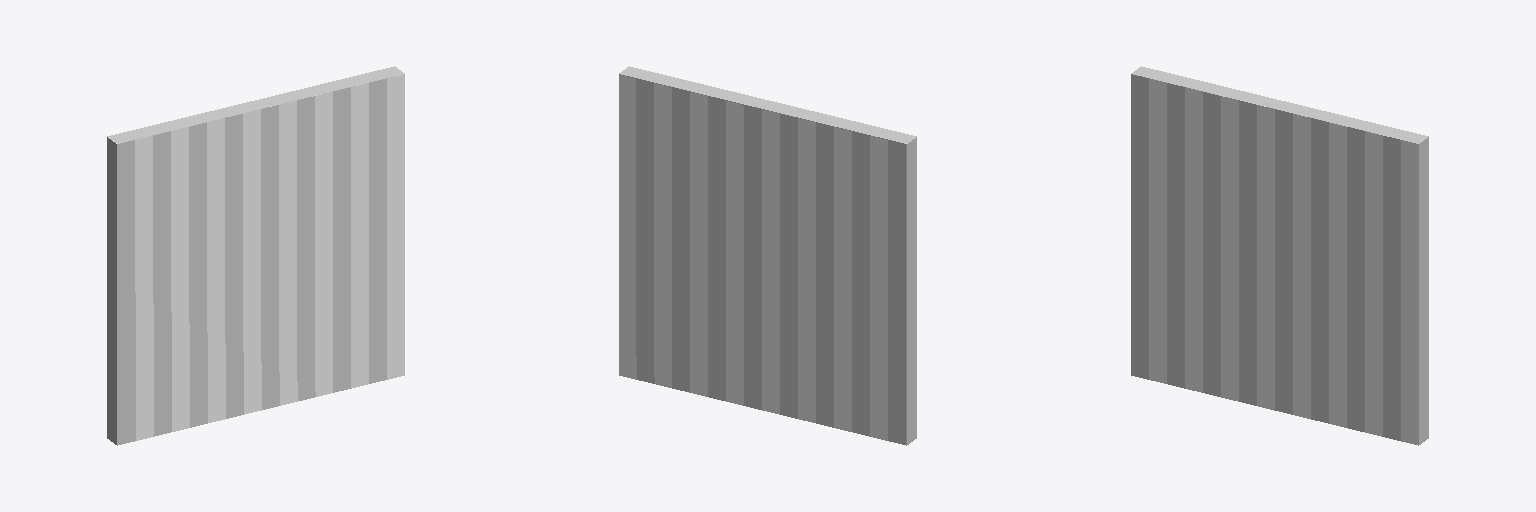
3 views of the same model, side by side, from view 1: azimuth 30°, elevation 25°; view 2: azimuth 150°, elevation 25°; view 3: azimuth 330°, elevation 25° (orthographic).
Visible parts, largest first — view 1: Cube; view 2: Cube; view 3: Cube.
Part boxes in pixels (left/top/right/bottom): Cube: left=107, top=66, right=404, bottom=445; Cube: left=619, top=66, right=916, bottom=445; Cube: left=1131, top=66, right=1428, bottom=445.
Size of the model in its own units: 32 by 32 by 2.
Materials: 1 (1 with a texture image).